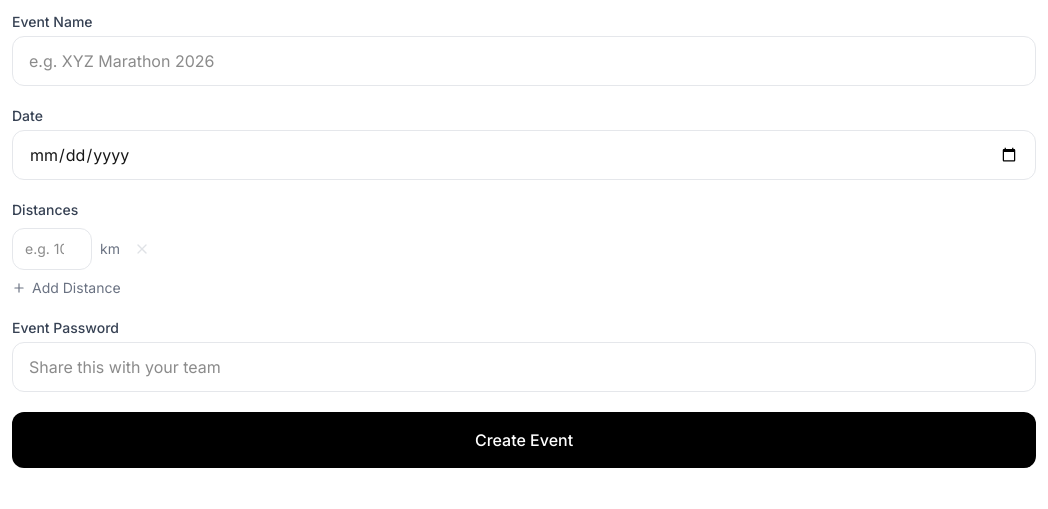
Scenario: EventSetupForm — password field › shows "Password must be at least 4 characters" for short password
Type "Test Marathon" into the field with placeholder "e.g. XYZ Marathon 2026". click: [524, 61]
box: [12,36,1036,86]
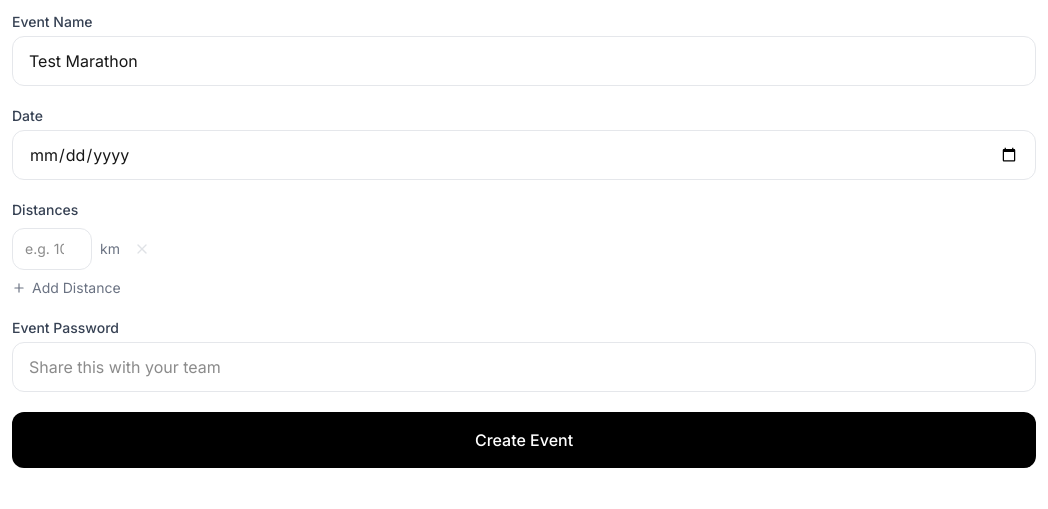
Type "2026-04-01" into the date field labelled "Date". click: [524, 155]
box: [12,130,1036,180]
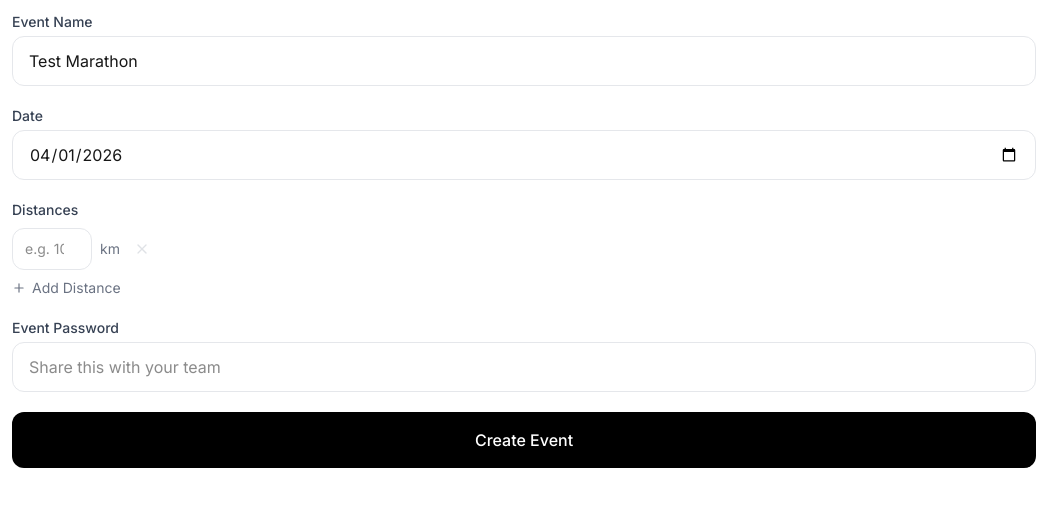
Type "10" into the number field with placeholder "e.g. 10". click: [52, 249]
box: [12,228,92,270]
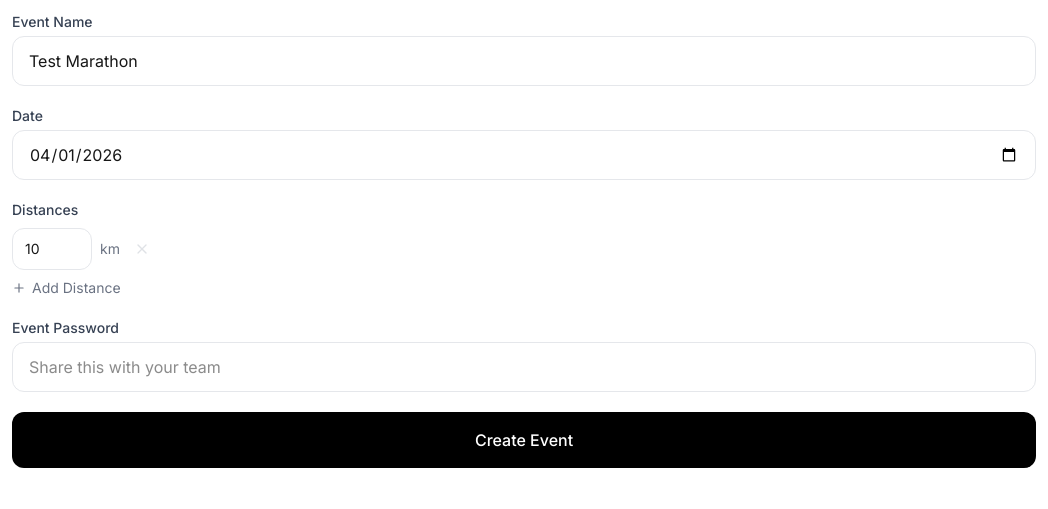
Type "ab" into the field labelled "Event Password". click: [524, 367]
box: [12,342,1036,392]
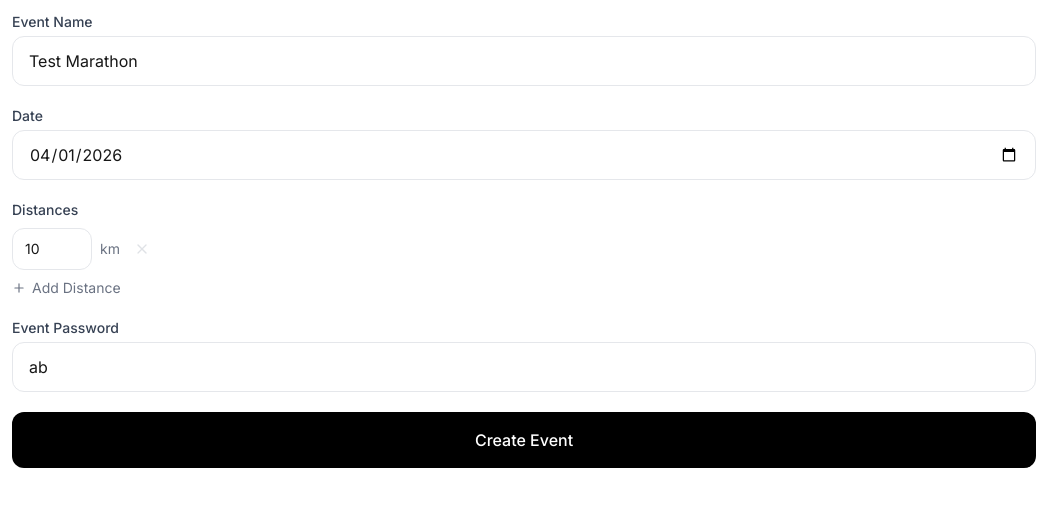
Click the button "Create Event". click: [524, 440]
box: [12,412,1036,468]
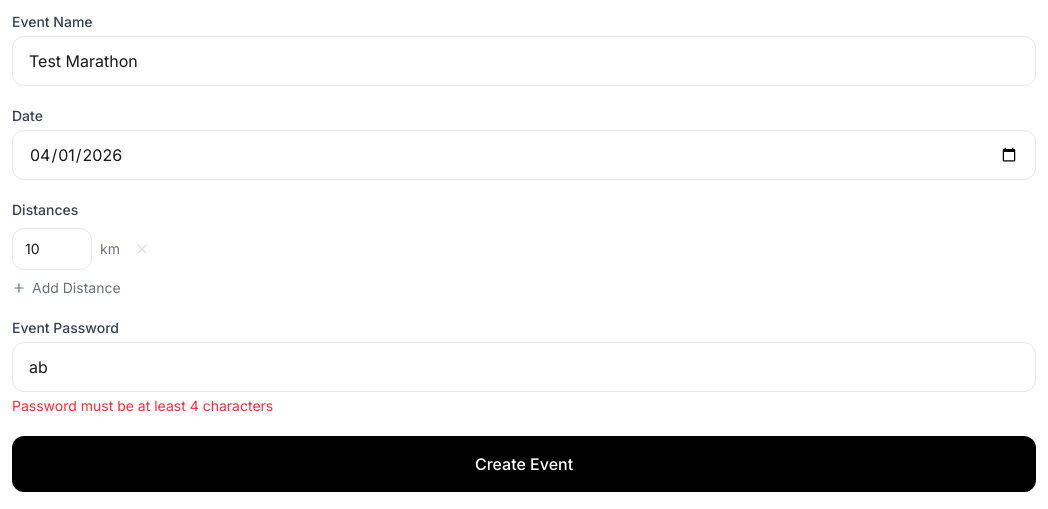
Expected: the text "Password must be at least 4 characters" is shown, [12,397,273,414]
